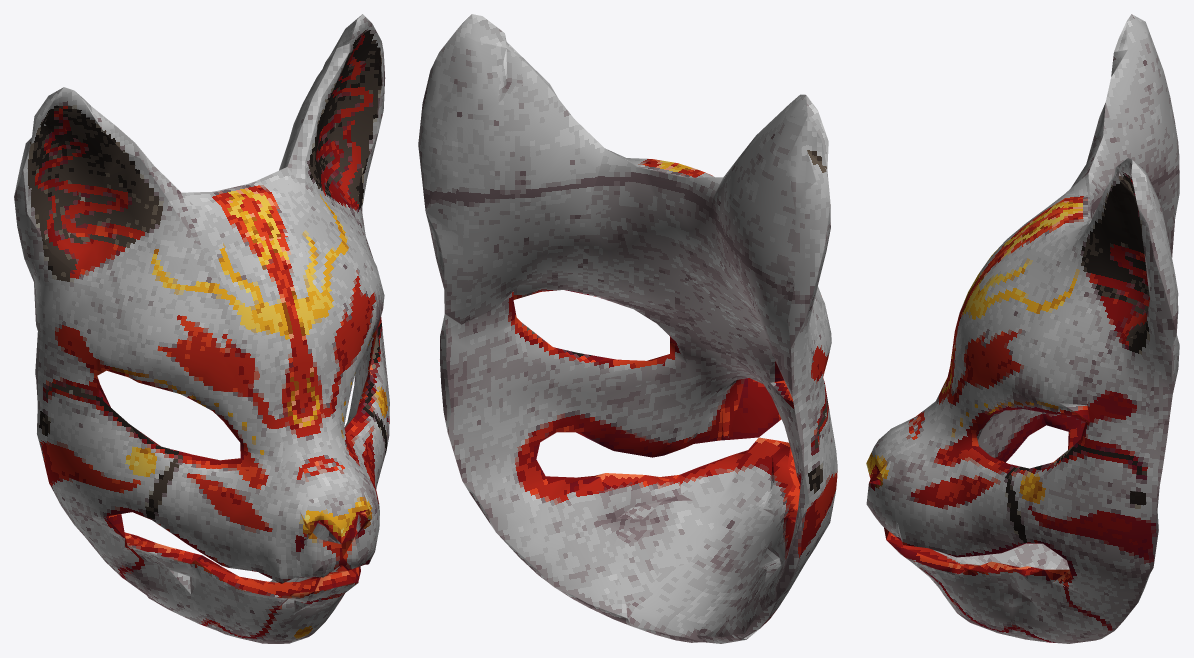
The model's file is wear_kitsune2.glb.
3 views of the same model, side by side, from view 1: azimuth 30°, elevation 25°; view 2: azimuth 150°, elevation 25°; view 3: azimuth 270°, elevation 25° (orthographic). The views are drawn at different scales.
Visible parts, largest first — view 1: mesh; view 2: mesh; view 3: mesh.
Boxes of the visible parts, box(x1,y1,x2,y2) form: mesh: box(14, 14, 389, 643); mesh: box(418, 14, 837, 643); mesh: box(866, 14, 1179, 643).
Size of the model in its own units: 0.1539 by 0.22 by 0.1145.
1 material, 1 textured.
